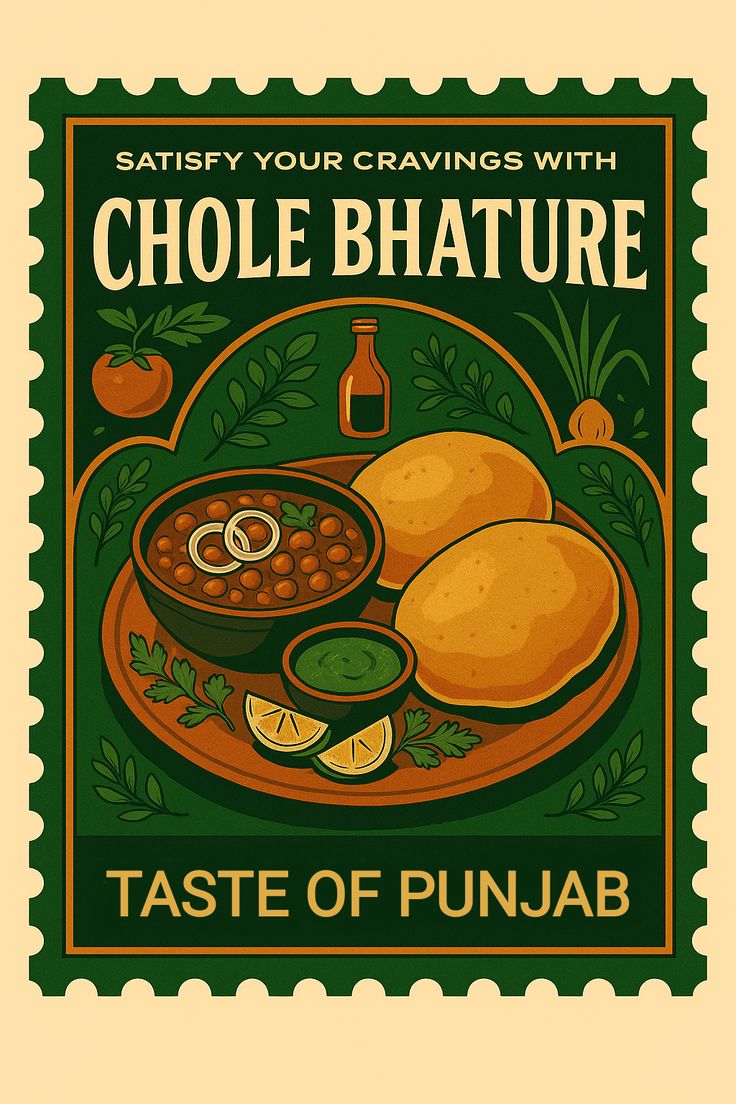Headline: (85, 191, 652, 312)
Product: (112, 429, 642, 777)
